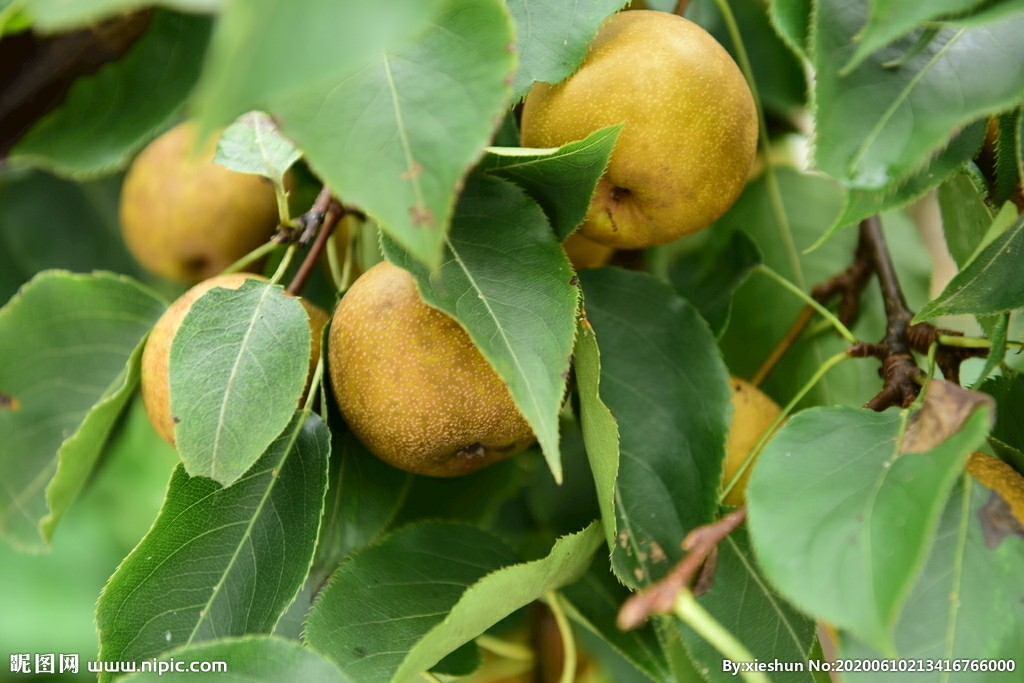pear: (518, 6, 755, 252), (328, 249, 569, 476), (140, 269, 327, 440), (119, 112, 280, 281)
